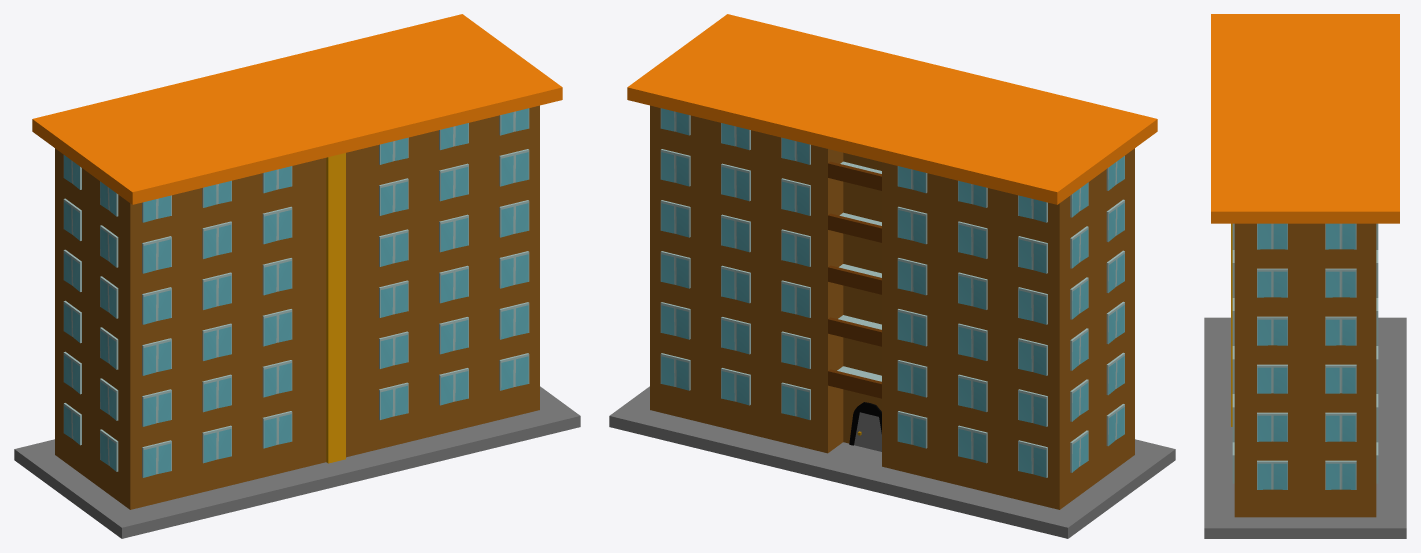
The model's file is House2.fbx.
3 views of the same model, side by side, from view 1: azimuth 30°, elevation 25°; view 2: azimuth 150°, elevation 25°; view 3: azimuth 270°, elevation 25° (orthographic). The views are drawn at different scales.
Parts seen in each view (by area): view 1: House.002; view 2: House.002; view 3: House.002.
Boxes of the visible parts, left/top/right/bottom form: House.002: left=14, top=14, right=580, bottom=538; House.002: left=609, top=14, right=1175, bottom=538; House.002: left=1204, top=14, right=1406, bottom=538.
Size of the model in its own units: 3197 by 2268 by 1298.
